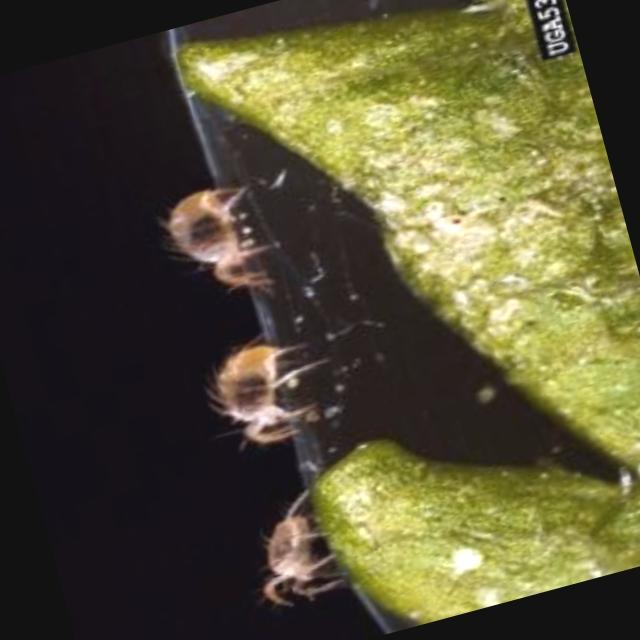spider mite: (214, 435, 402, 617), (137, 143, 317, 320), (186, 314, 359, 476)
